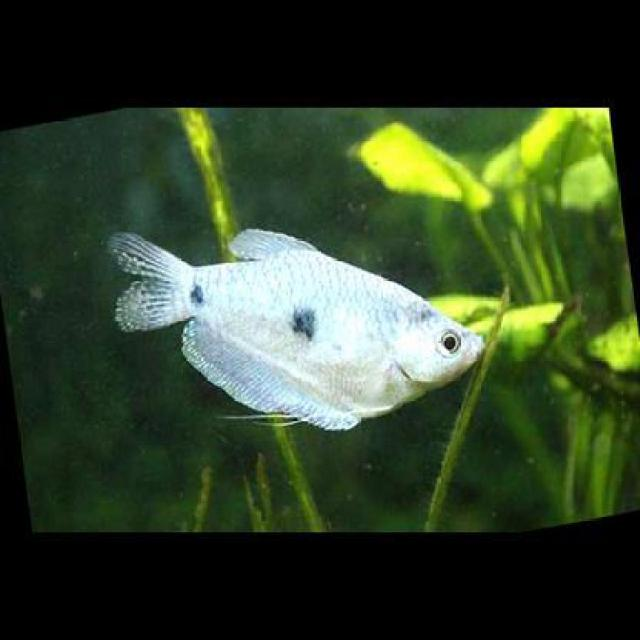Gourami: (102, 219, 488, 433)
